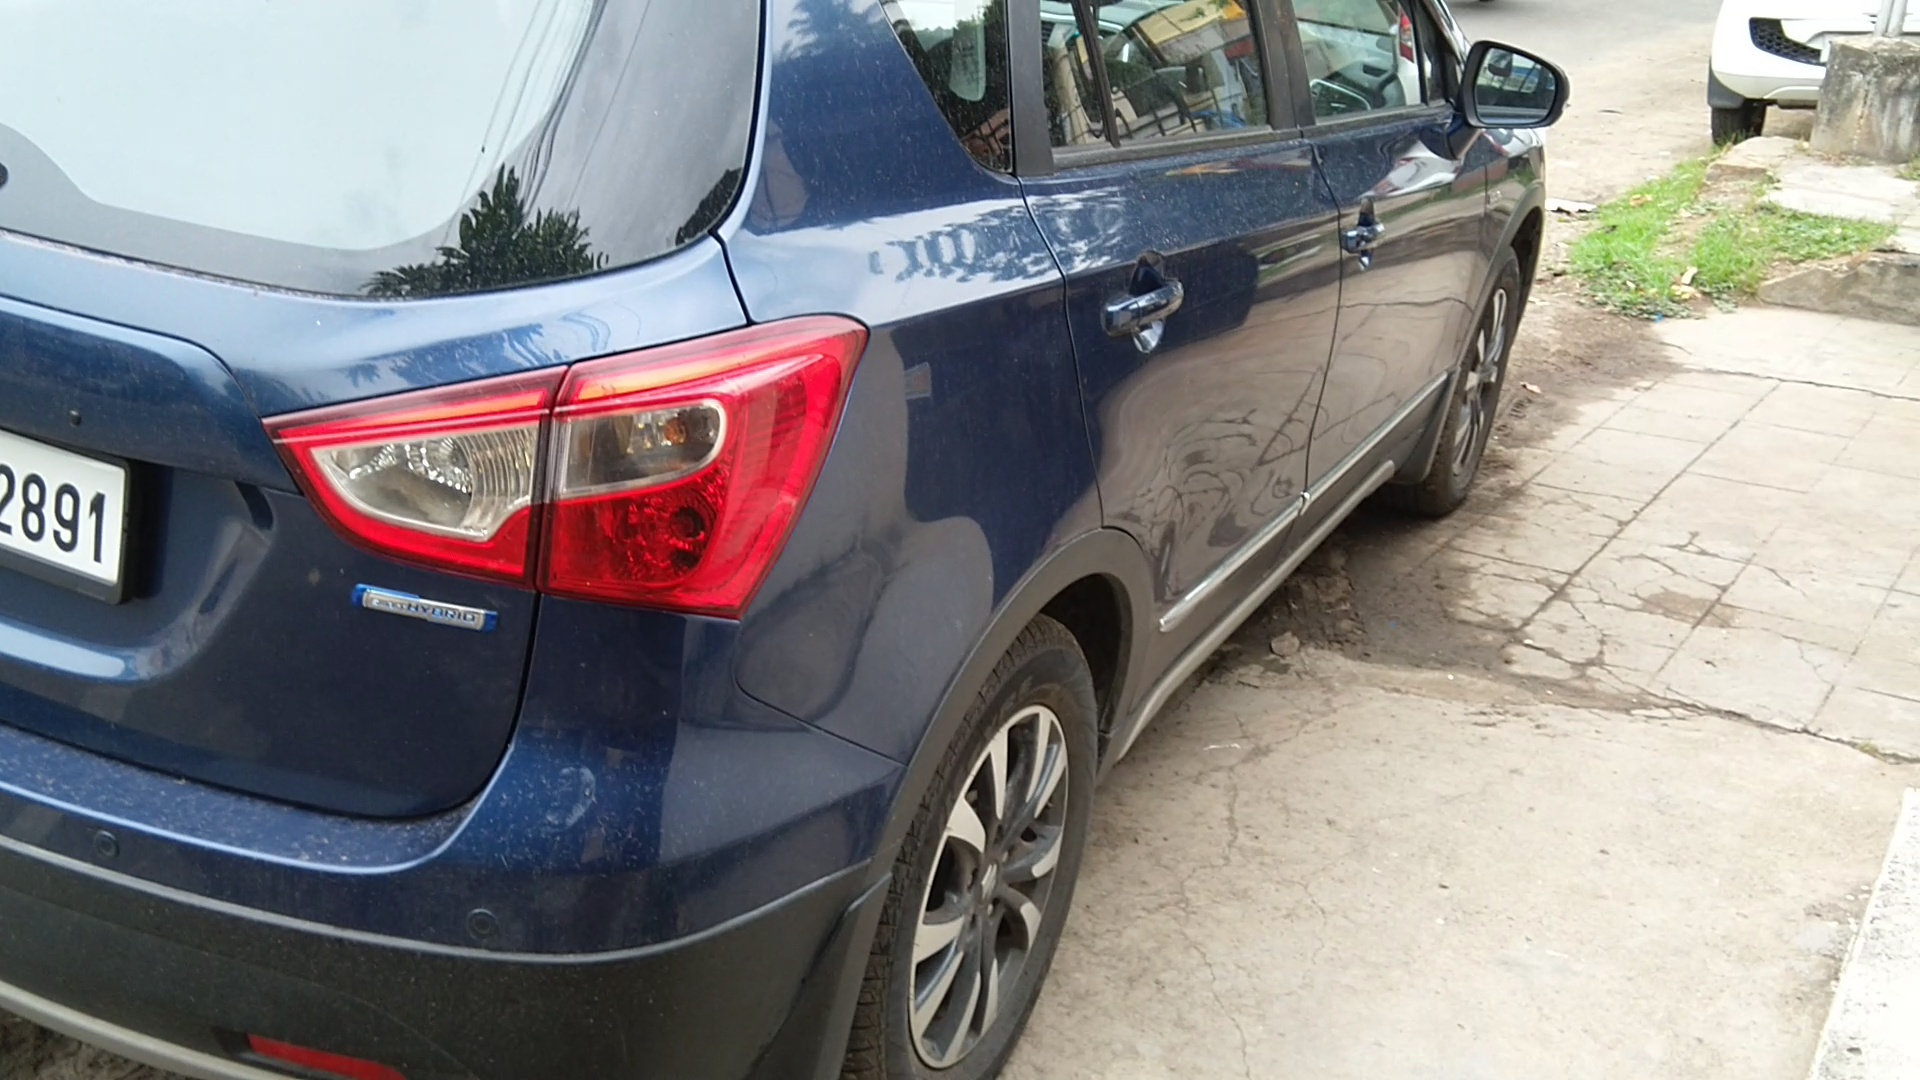alloy_wheel: (833, 632, 1112, 1080), (1416, 251, 1536, 510)
shvs: (336, 575, 524, 645)
